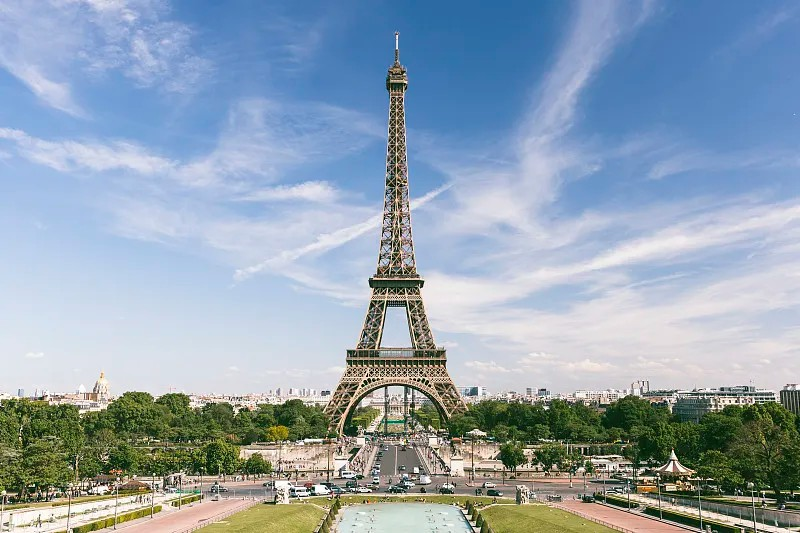Eiffel: (322, 31, 476, 439)
